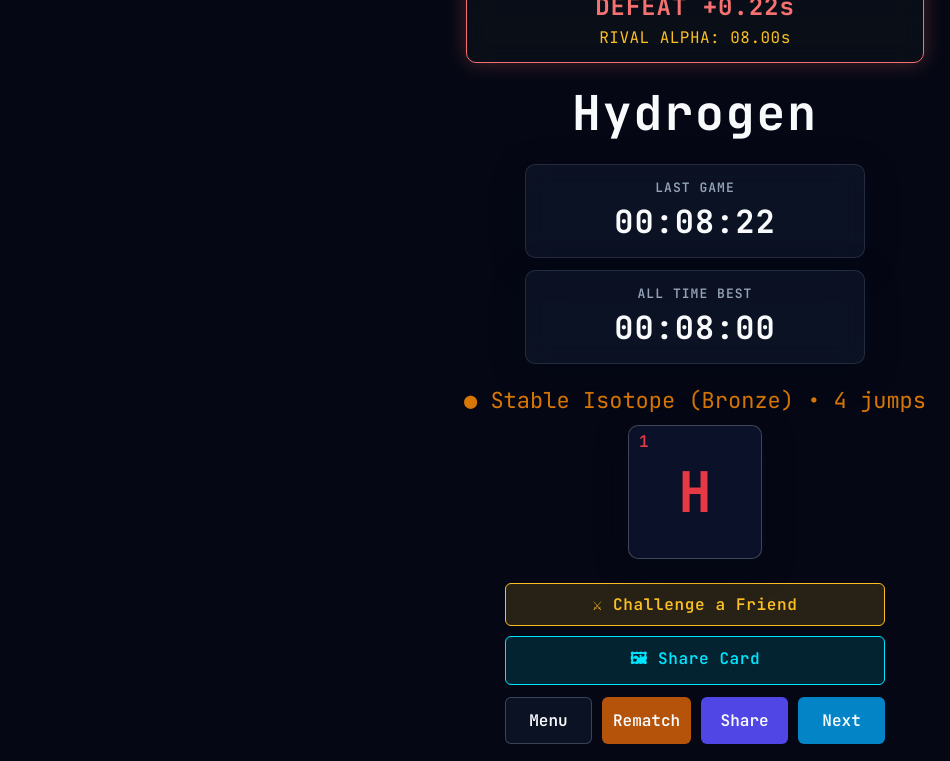
LevelFinished component › Spec-02: Ghost Tennis Duel verdict, Rematch, and Revenge Link › shows DEFEAT verdict and keeps activeDuel when clicking Rematch
(page scrolled)
Click the button "Rematch": coordinates (646, 720) [602,697,691,744]
(page scrolled)
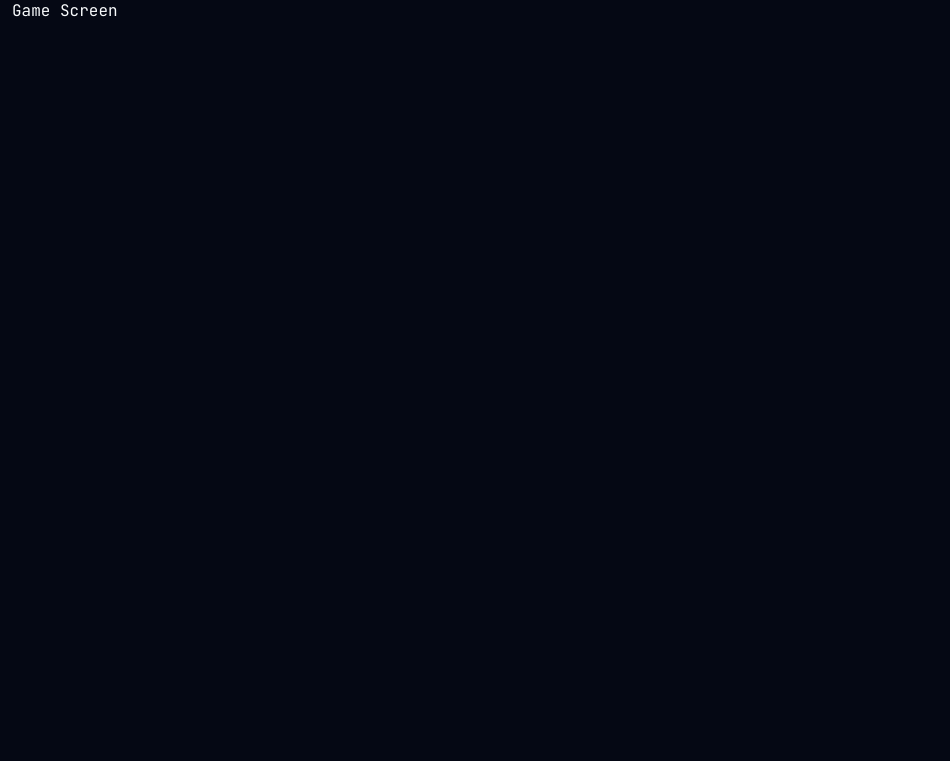
Expected: the text "Game Screen" is shown, [12,0,118,21]
